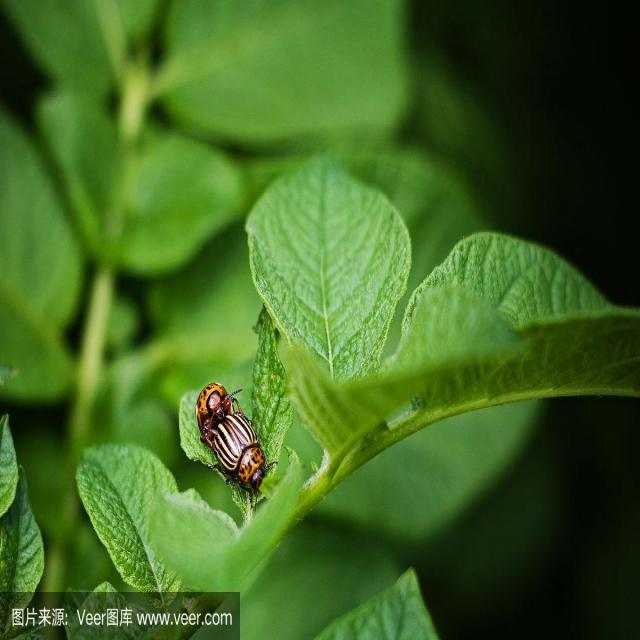ShuCaiHuaBanChong-Grown-: (211, 407, 272, 487), (196, 377, 232, 423)
